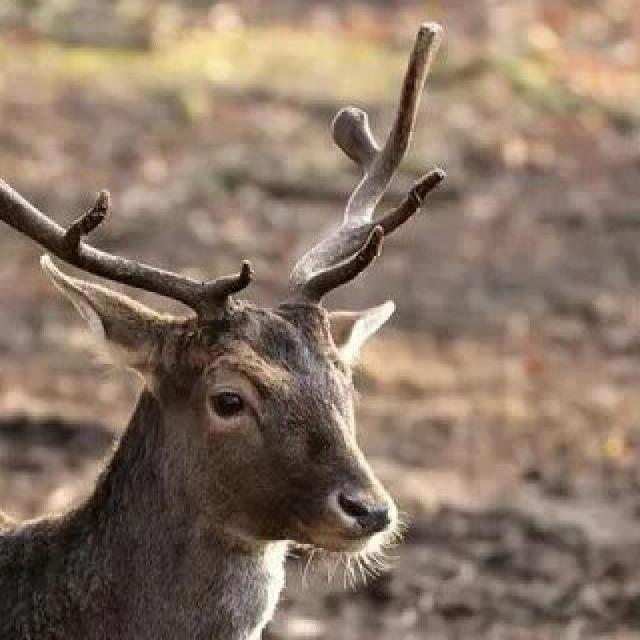deer: (24, 142, 540, 640)
